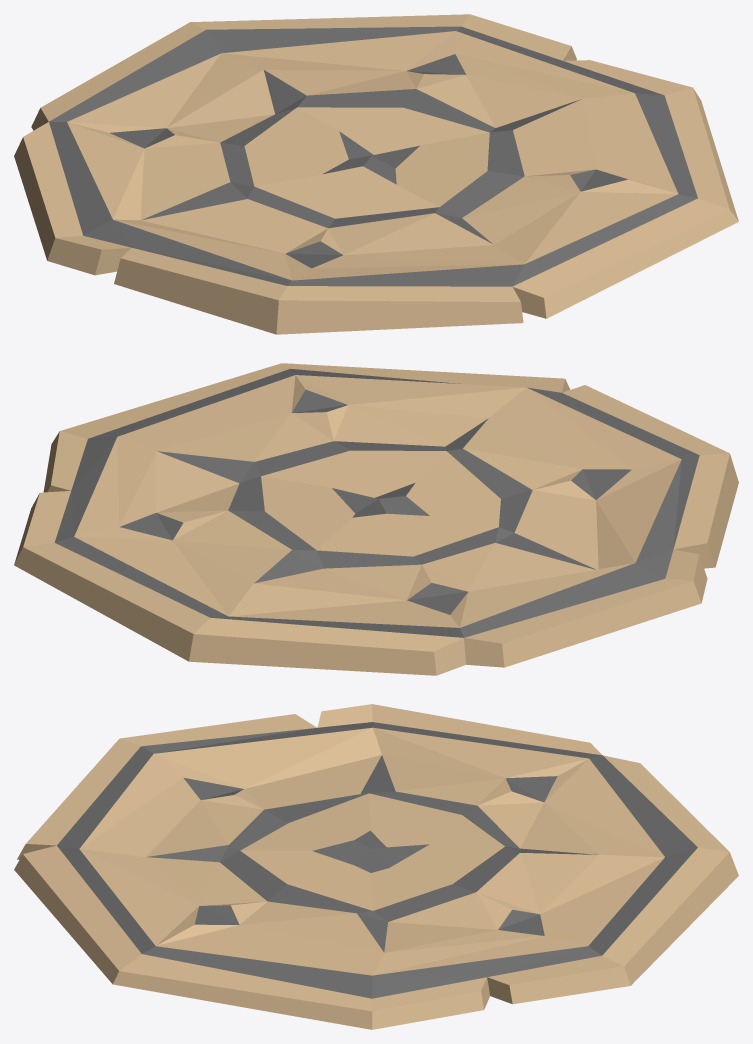
Rendered from CircleRug_White.fbx.
3 views of the same model, one above another, from view 1: azimuth 30°, elevation 25°; view 2: azimuth 150°, elevation 25°; view 3: azimuth 270°, elevation 25° (orthographic). The views are drawn at different scales.
Visible parts, largest first — view 1: CircleRug_White; view 2: CircleRug_White; view 3: CircleRug_White.
Part boxes in pixels (x1,y1,x2,y2): CircleRug_White: (14,14,738,334); CircleRug_White: (14,363,738,675); CircleRug_White: (14,704,738,1029).
Size of the model in its own units: 9.17 by 0.4681 by 9.07.
